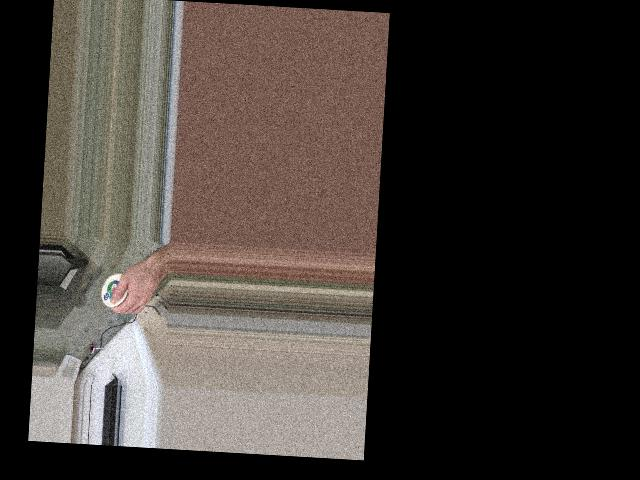cotage: (100, 272, 132, 308)
